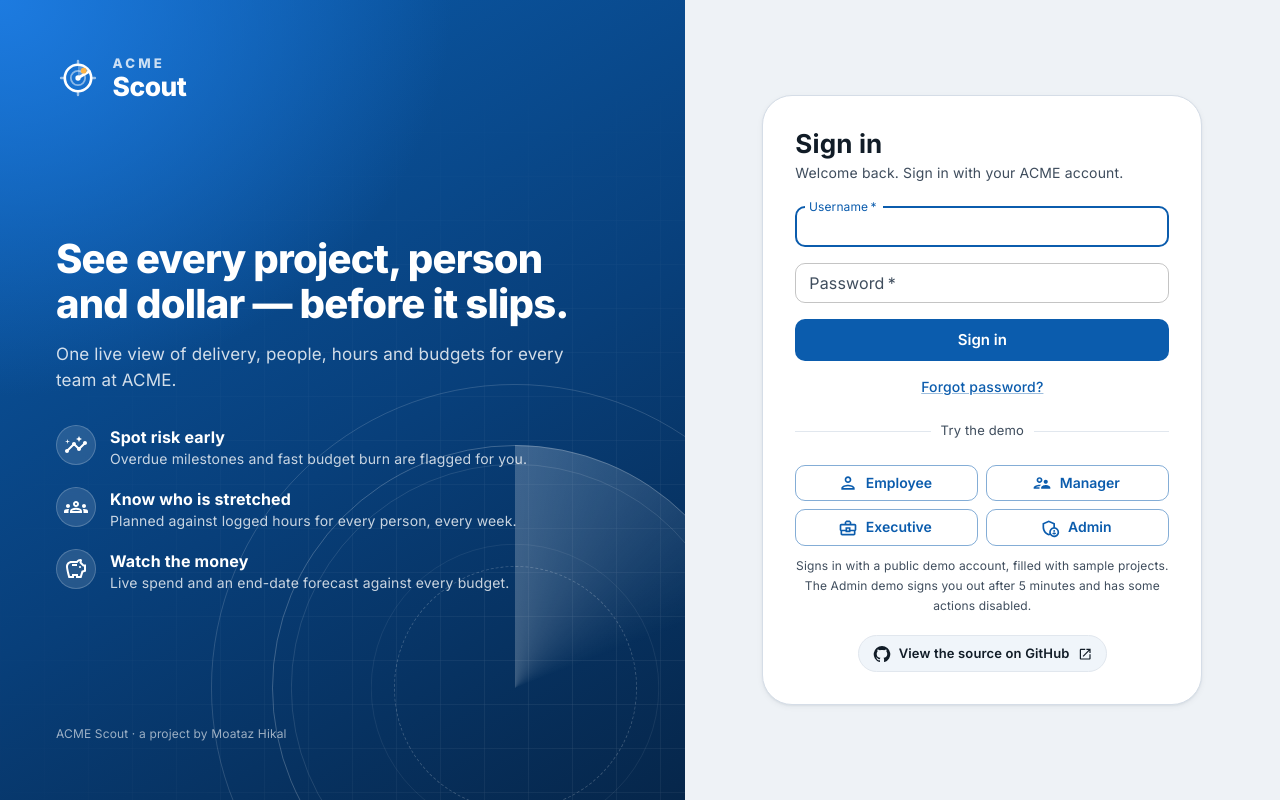
Test: login › locked accounts say when to try again
Type "eli" into the field labelled "Username *" at x=982, y=227, box [795, 207, 1169, 247]
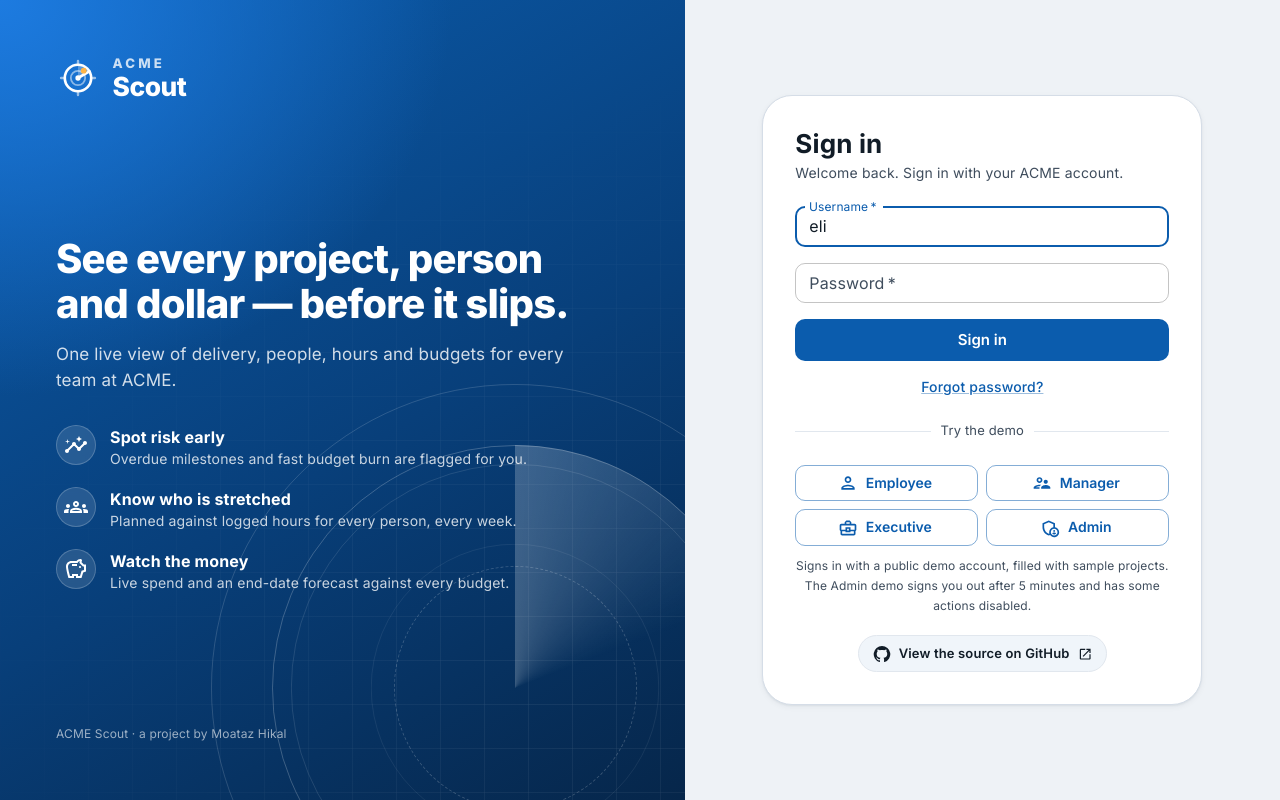
Type "Passw0rd!" into the password field labelled "Password *" at x=982, y=283, box [795, 263, 1169, 303]
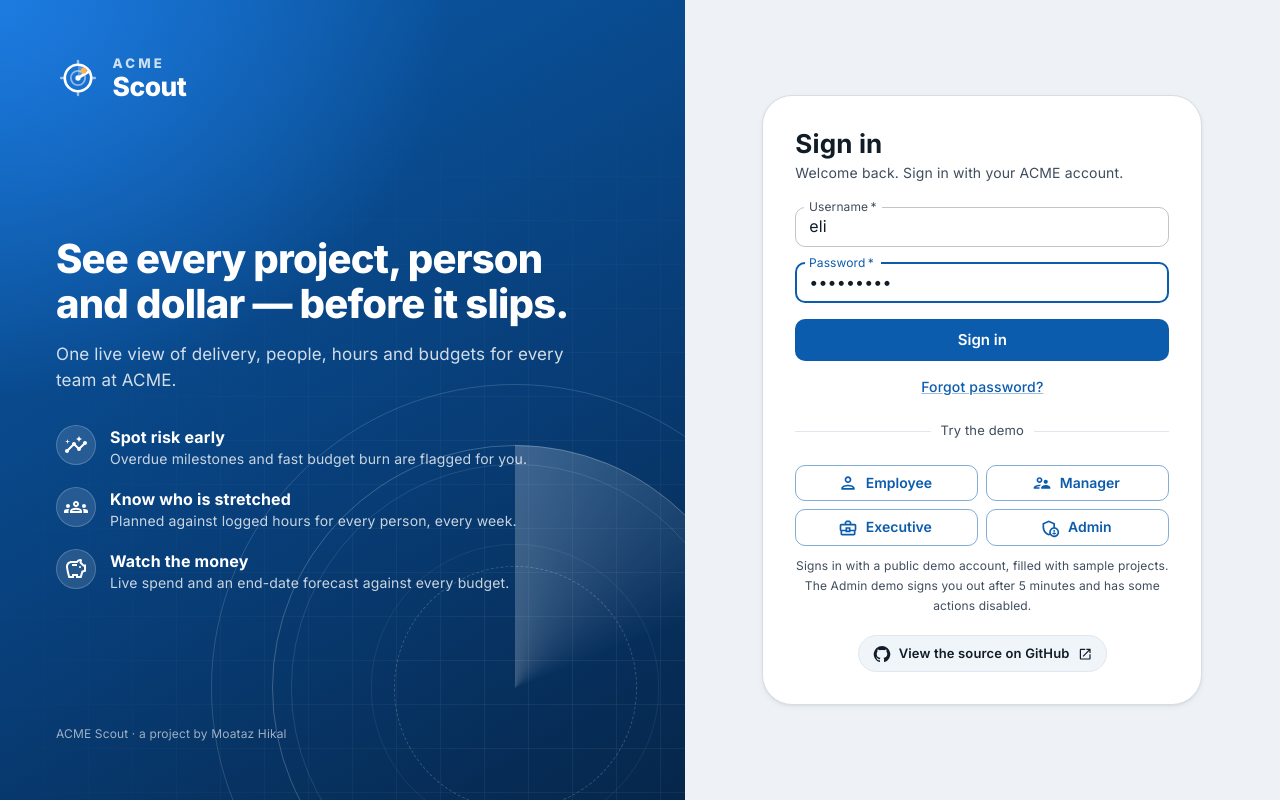
Click the button "Sign in" at x=982, y=340, box [795, 319, 1169, 361]
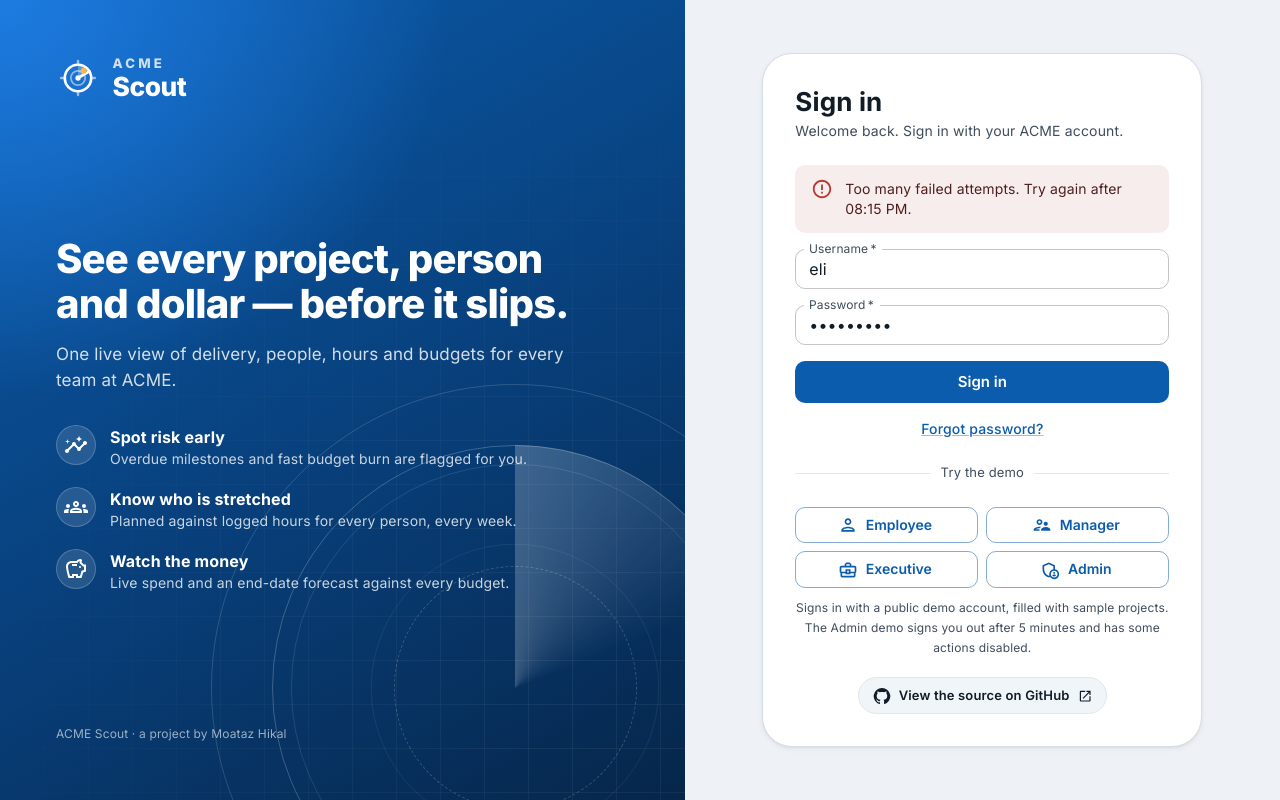
Expected: the message shows "Too many failed attempts", [845, 180, 1122, 217]
